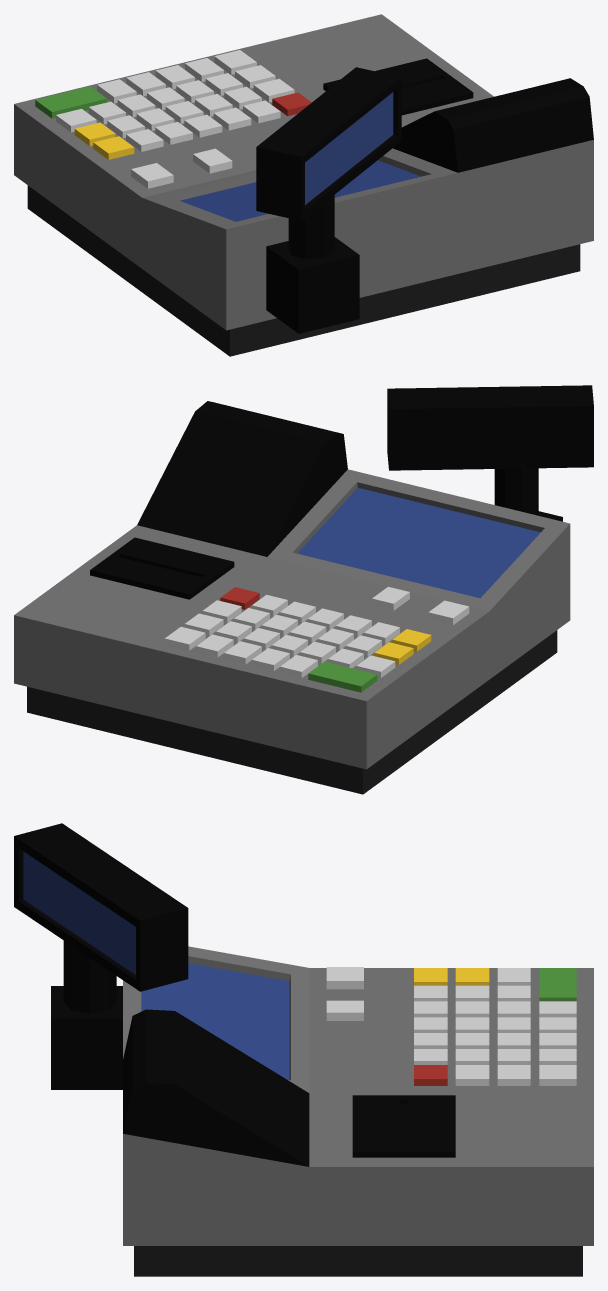
Rendered from SM_cashRegister.glb.
The picture shows the model from 3 angles, top to bottom: view 1: azimuth 30°, elevation 25°; view 2: azimuth 150°, elevation 25°; view 3: azimuth 270°, elevation 25°; orthographic projection. The views are drawn at different scales.
Visible parts, largest first — view 1: SM_cashRegister; view 2: SM_cashRegister; view 3: SM_cashRegister.
Boxes of the visible parts, box(x1,y1,x2,y2) form: SM_cashRegister: box(14, 14, 593, 356); SM_cashRegister: box(14, 385, 593, 794); SM_cashRegister: box(14, 823, 593, 1276).
Bounding box in the file's own units: 0.508 × 0.31 × 0.6255.
Materials: 1 (1 with a texture image).
